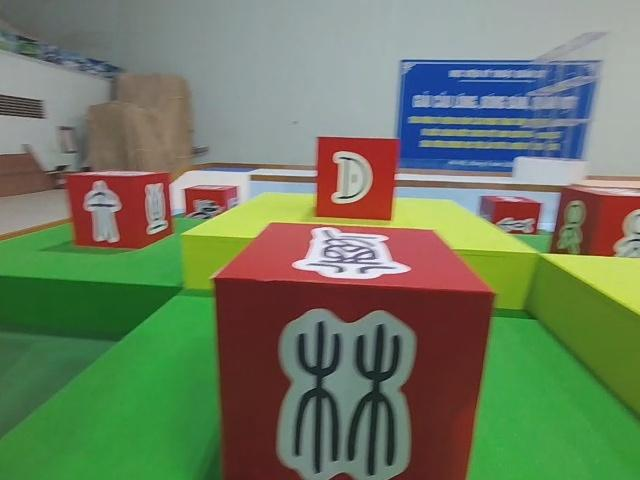R1: (183, 181, 240, 224)
R2 Fake: (211, 219, 498, 480), (63, 167, 176, 252)
R2 Real: (313, 133, 402, 223), (547, 182, 640, 267), (476, 193, 544, 239)
